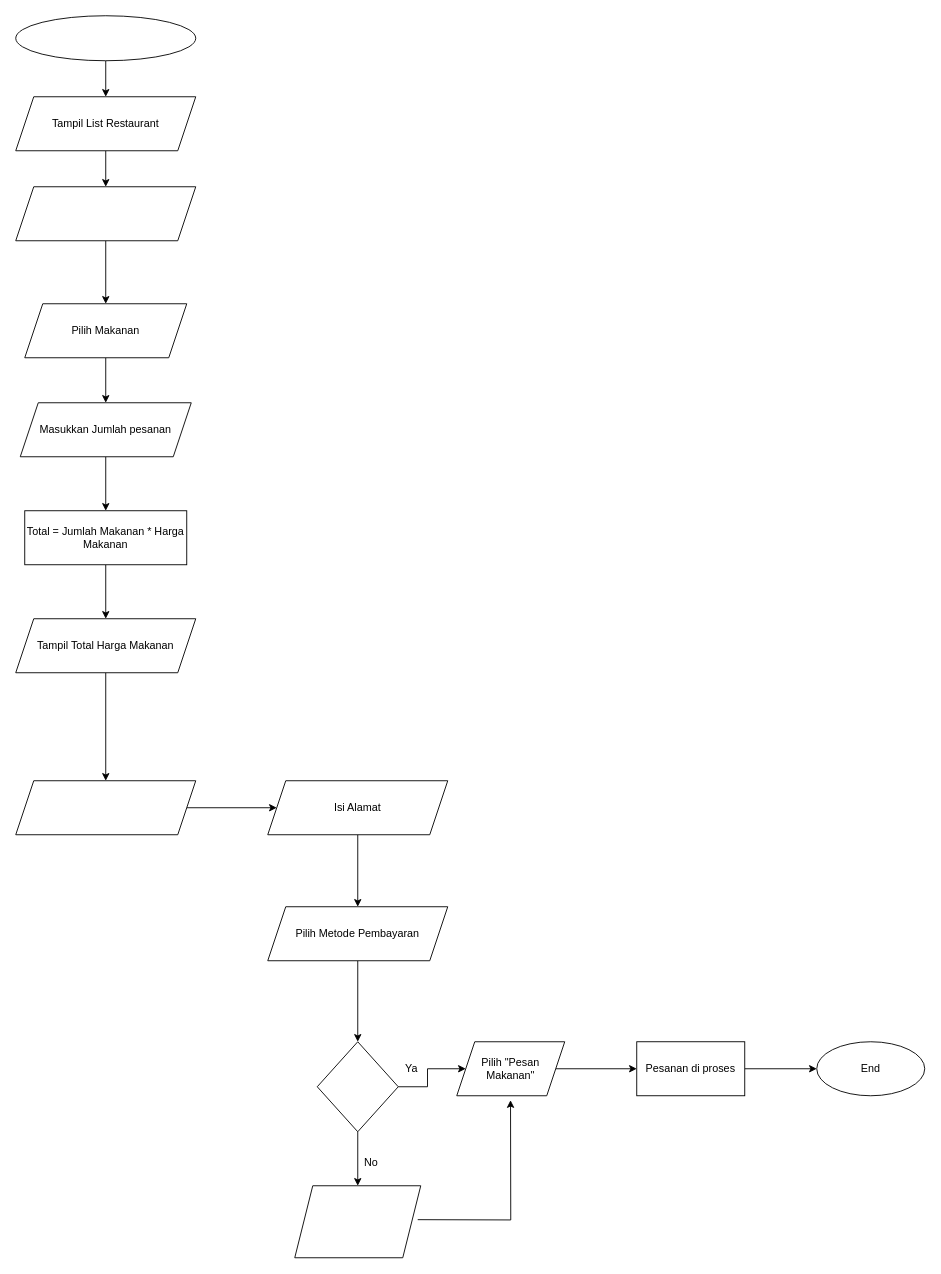
This 941x1274 diagram has some shape labels left out. The centre of each missing label's shape, as x and y in pixels:
Mulai: (x=105, y=38)
Pembayaran cash ?: (x=357, y=1086)
Pilih Checkout: (x=105, y=807)
Pilih Pembayaran E-wallet: (x=357, y=1221)
Pilih Restaurant: (x=105, y=213)
